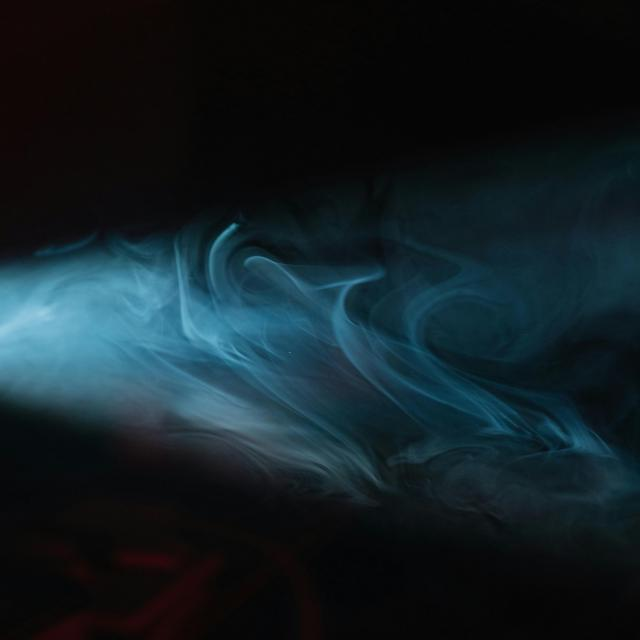smoke: (5, 196, 632, 514)
